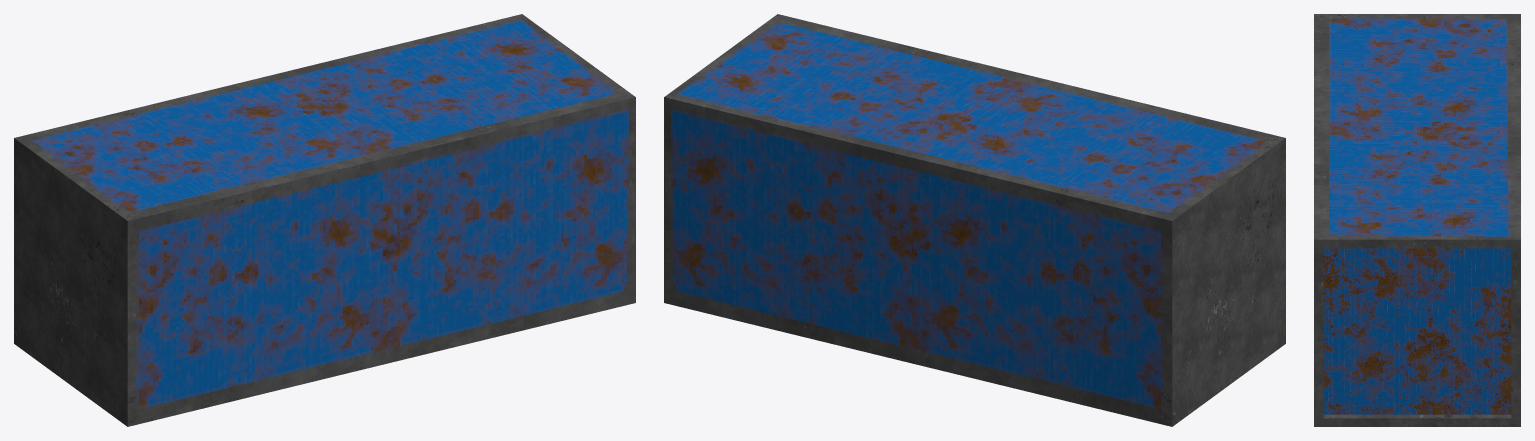
Rendered from Container.glb.
The picture shows the model from 3 angles, left to right: view 1: azimuth 30°, elevation 25°; view 2: azimuth 150°, elevation 25°; view 3: azimuth 270°, elevation 25°; orthographic projection. The views are drawn at different scales.
Visible parts, largest first — view 1: Cube; view 2: Cube; view 3: Cube, Cube.001.
Boxes of the visible parts, x1=… form: Cube: x1=14, y1=14, x2=635, y2=426; Cube: x1=664, y1=14, x2=1285, y2=426; Cube: x1=1314, y1=14, x2=1520, y2=426; Cube.001: x1=1323, y1=248, x2=1511, y2=414.
Size of the model in its own units: 12.23 by 4.74 by 4.74.
Materials: 2 (2 with a texture image).
